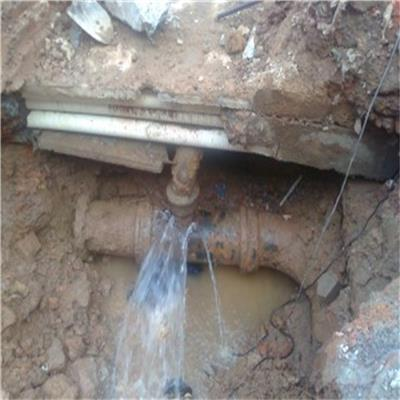pipe burst: (107, 211, 210, 400)
water accumulation: (95, 255, 297, 373)
